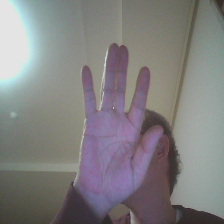hand: (77, 42, 159, 205)
